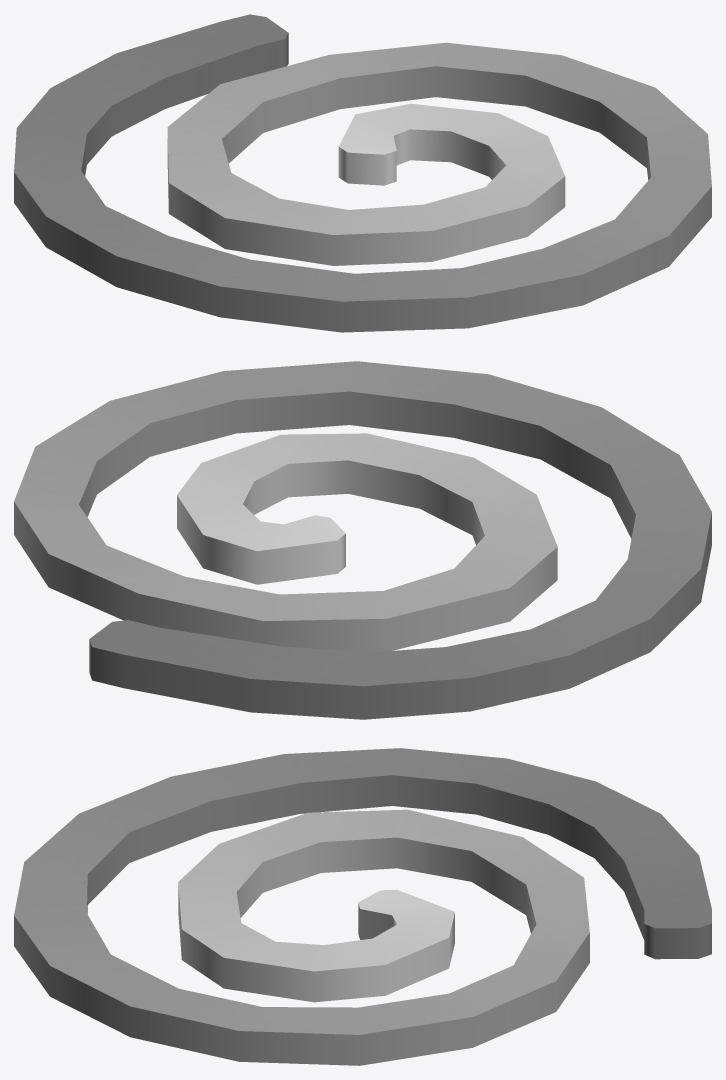
File: Sauce_Swirl.fbx
The picture shows the model from 3 angles, top to bottom: view 1: azimuth 30°, elevation 25°; view 2: azimuth 150°, elevation 25°; view 3: azimuth 270°, elevation 25°; orthographic projection. The views are drawn at different scales.
Parts seen in each view (by area): view 1: Sauce_Swirl; view 2: Sauce_Swirl; view 3: Sauce_Swirl.
Part boxes in pixels (bbox=[...]): Sauce_Swirl: bbox=[14, 14, 711, 332]; Sauce_Swirl: bbox=[14, 361, 711, 719]; Sauce_Swirl: bbox=[14, 748, 711, 1065].
Size of the model in its own units: 15.26 by 0.765 by 15.69.
Materials: 1 (1 with a texture image).
